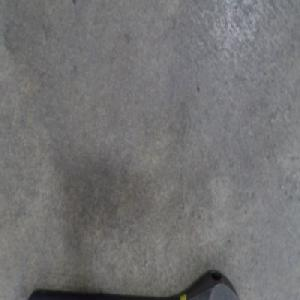AdjustableWrench: (30, 270, 239, 300)
